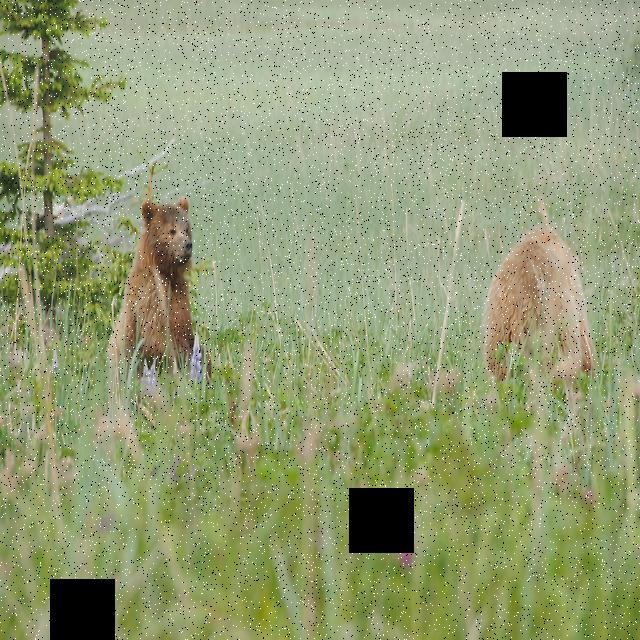Bear: (104, 183, 212, 427)
